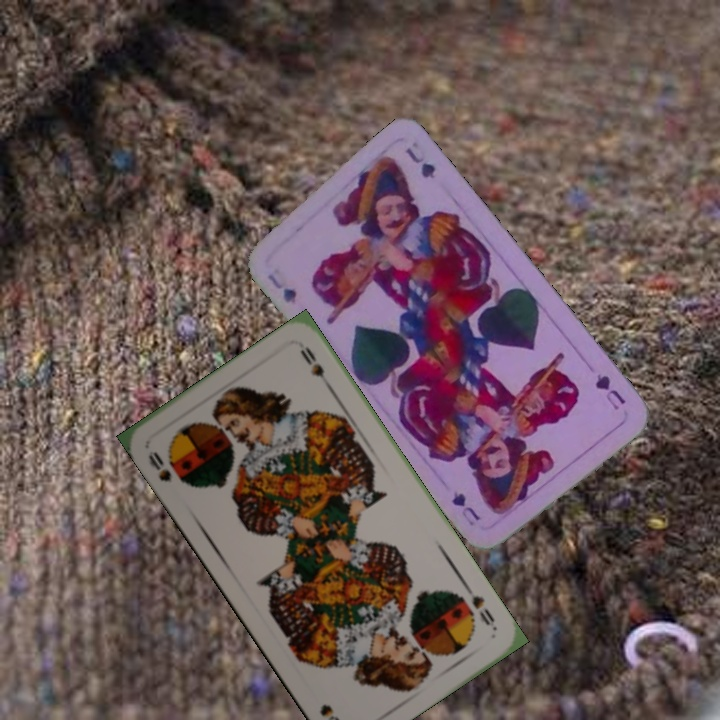GU: (591, 370, 629, 413), (263, 269, 299, 306)
SO: (460, 580, 498, 628), (144, 447, 174, 485)
